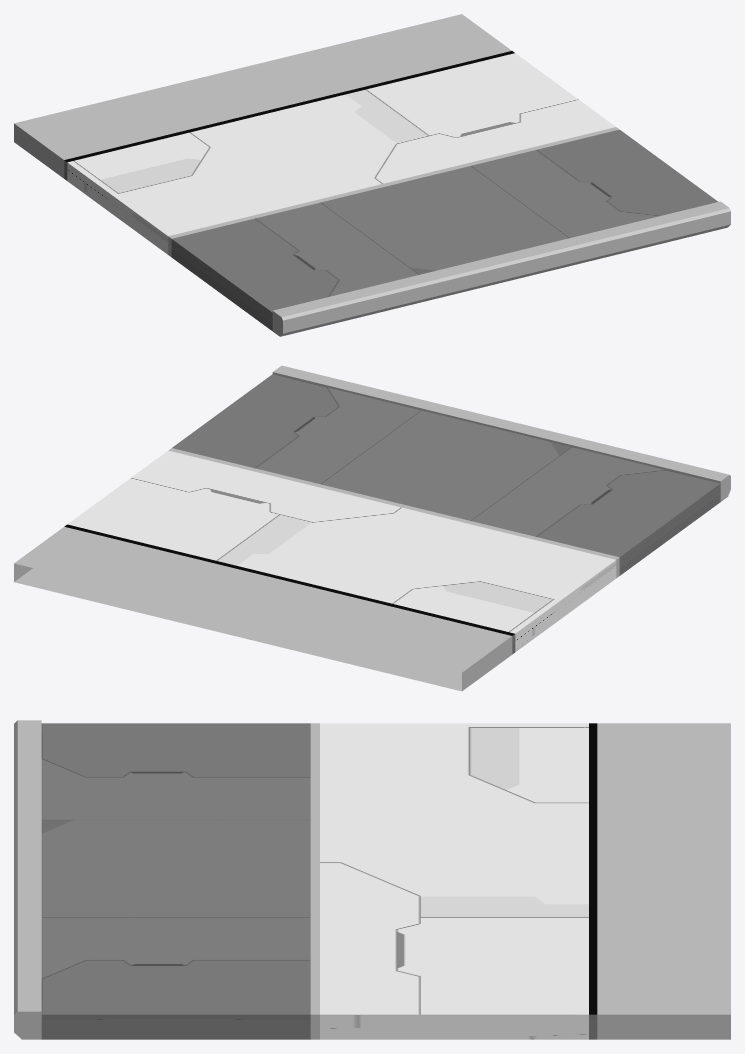
File: SM_Platform_Interior_5x5_1.fbx
3 renders of one model, top to bottom at view 1: azimuth 30°, elevation 25°; view 2: azimuth 150°, elevation 25°; view 3: azimuth 270°, elevation 25°, orthographic. The views are drawn at different scales.
Parts seen in each view (by area): view 1: SM_Platform_Interior_5x5_1; view 2: SM_Platform_Interior_5x5_1; view 3: SM_Platform_Interior_5x5_1.
Boxes of the visible parts, x1,y1,x2,y2 form: SM_Platform_Interior_5x5_1: [14, 14, 730, 336]; SM_Platform_Interior_5x5_1: [14, 365, 730, 691]; SM_Platform_Interior_5x5_1: [14, 720, 730, 1039].
Size of the model in its own units: 500 by 22.17 by 520.
